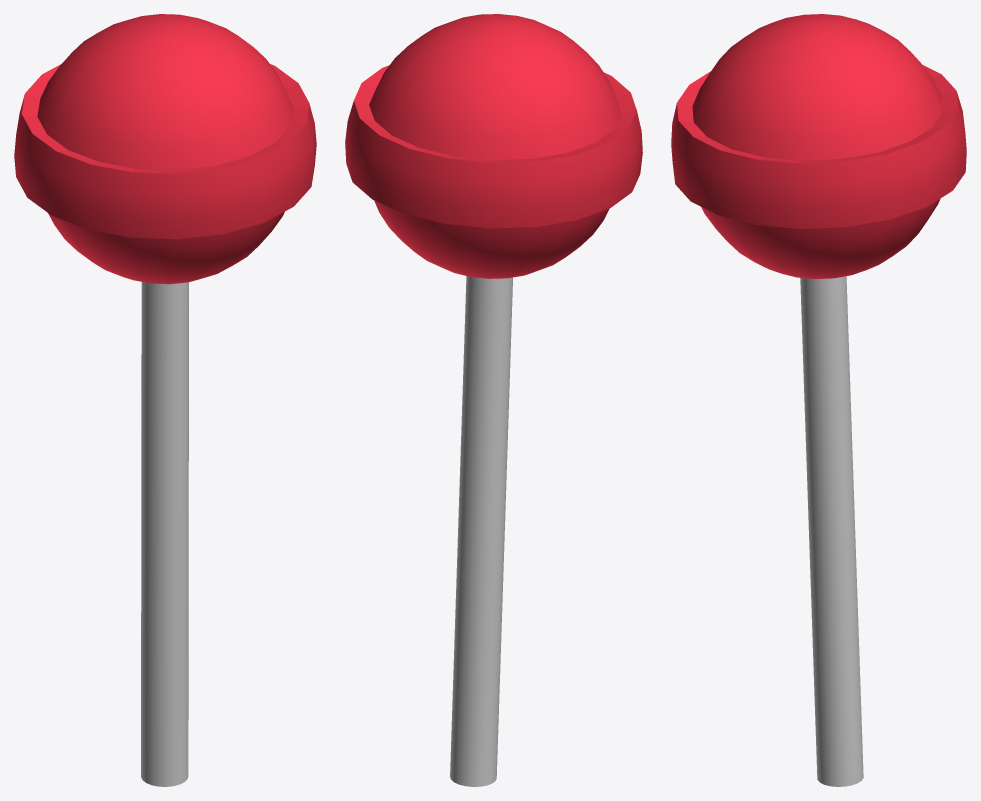
The model's file is lollipop_red.fbx.
The picture shows the model from 3 angles, left to right: view 1: azimuth 30°, elevation 25°; view 2: azimuth 150°, elevation 25°; view 3: azimuth 270°, elevation 25°; orthographic projection.
Visible parts, largest first — view 1: pSphere11; view 2: pSphere11; view 3: pSphere11.
Part boxes in pixels (x1=…): pSphere11: x1=14, y1=14, x2=316, y2=786; pSphere11: x1=345, y1=14, x2=642, y2=786; pSphere11: x1=671, y1=14, x2=966, y2=786.
Size of the model in its own units: 0.2891 by 0.8056 by 0.289.
